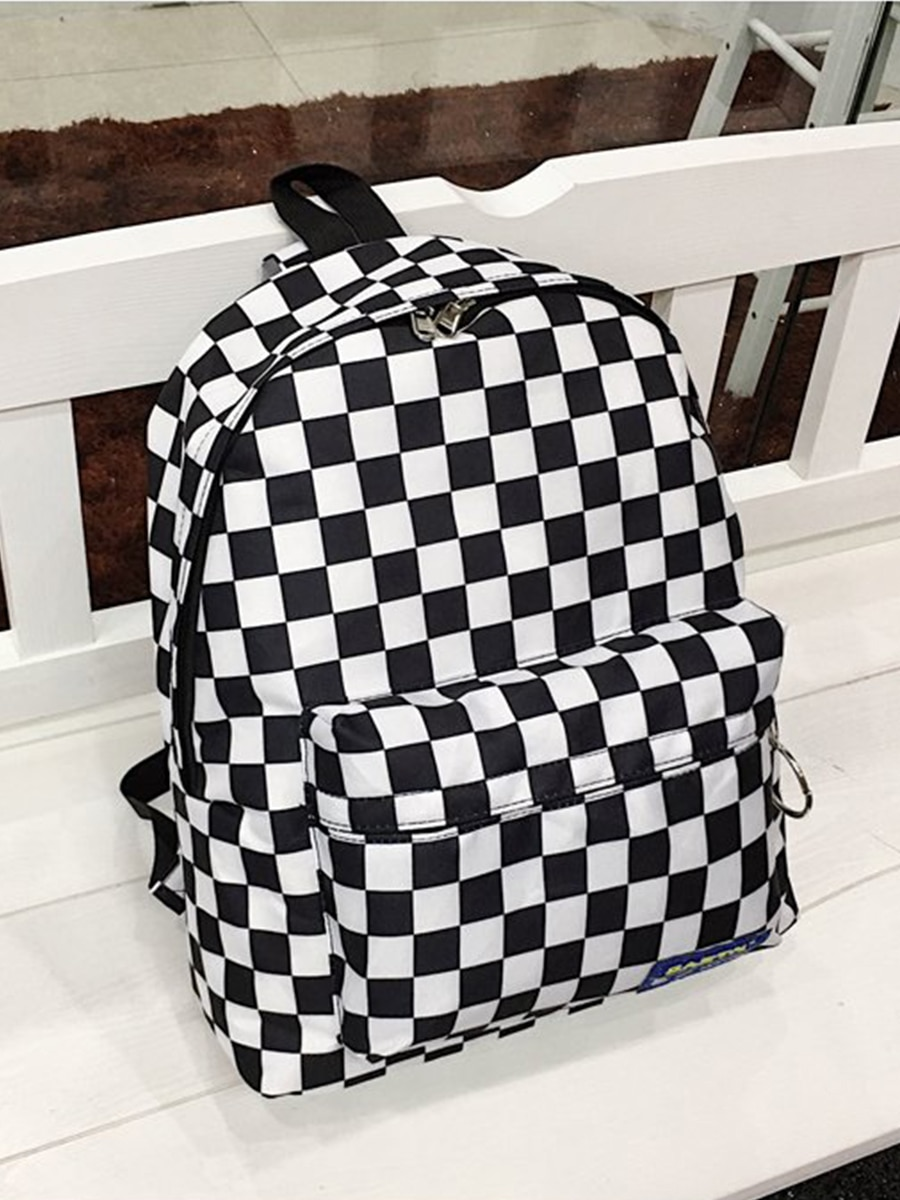Men's Backpacks: (117, 163, 812, 1096)
